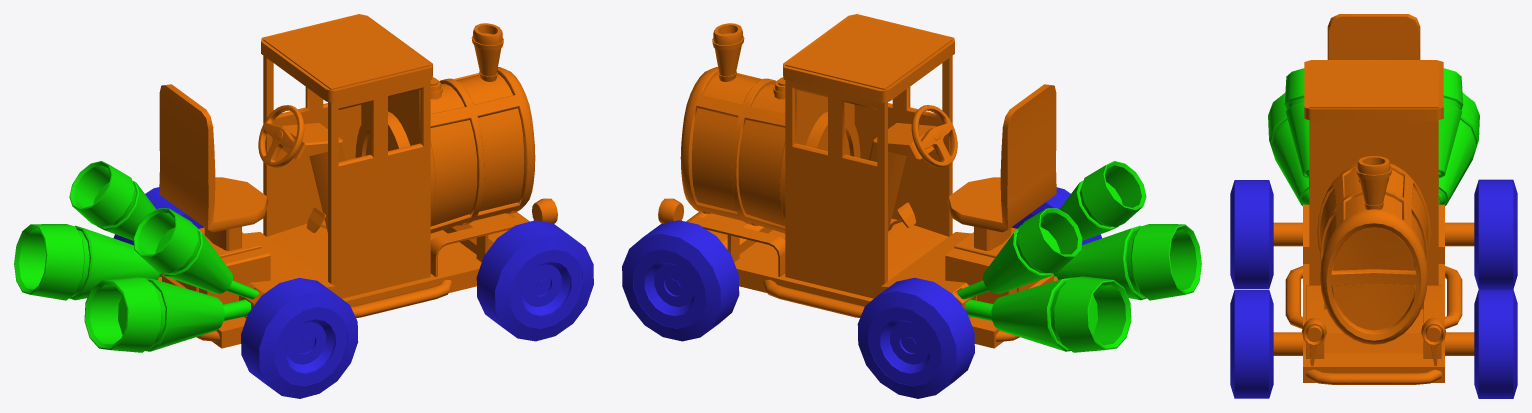
File: Train_Car_Connected_Mesh.fbx
3 views of the same model, side by side, from view 1: azimuth 30°, elevation 25°; view 2: azimuth 150°, elevation 25°; view 3: azimuth 270°, elevation 25° (orthographic). The views are drawn at different scales.
Visible parts, largest first — view 1: TC_Car_Connected; view 2: TC_Car_Connected; view 3: TC_Car_Connected.
Part boxes in pixels (<box>): TC_Car_Connected: <box>14,14,593,398</box>; TC_Car_Connected: <box>622,14,1201,398</box>; TC_Car_Connected: <box>1230,14,1517,398</box>.
Size of the model in its own units: 162 by 294 by 156.
